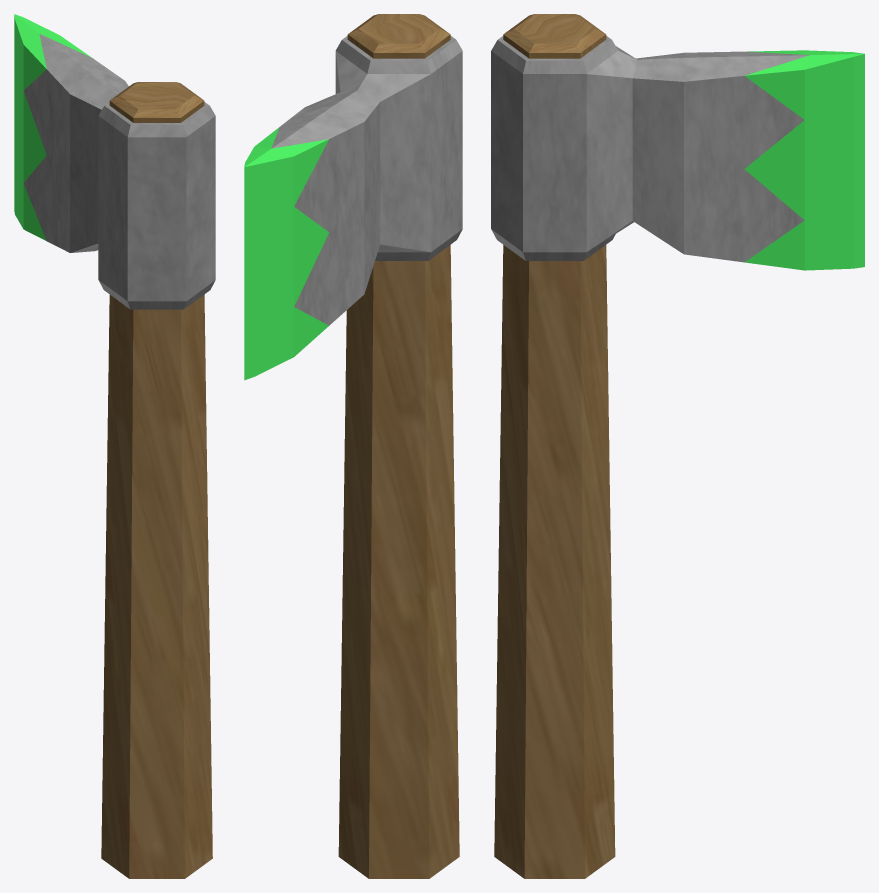
The model's file is item_axe_emerald.fbx.
3 renders of one model, left to right at view 1: azimuth 30°, elevation 25°; view 2: azimuth 150°, elevation 25°; view 3: azimuth 270°, elevation 25°, orthographic. The views are drawn at different scales.
Visible parts, largest first — view 1: Edge; view 2: Edge; view 3: Edge.
Boxes of the visible parts, x1=… form: Edge: x1=14, y1=14, x2=215, y2=878; Edge: x1=244, y1=14, x2=462, y2=878; Edge: x1=491, y1=14, x2=864, y2=878.
Bounding box in the file's own units: 182 × 1510 × 618.
Materials: 3 (2 with a texture image).
